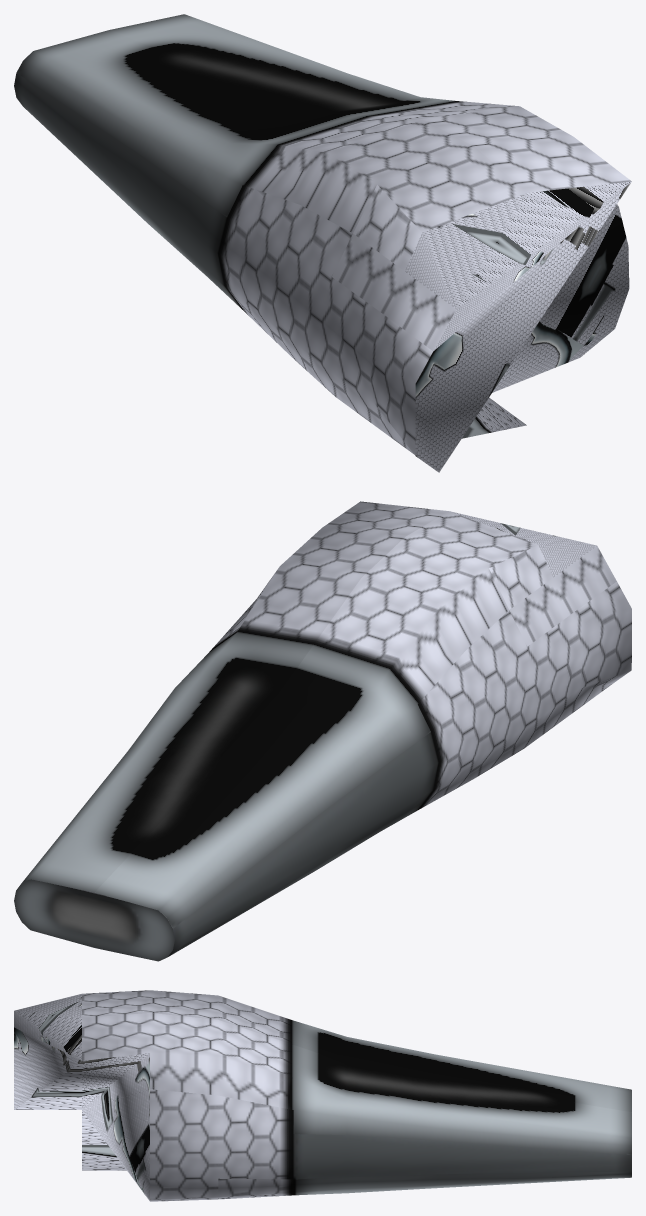
Rendered from StarfighterDestructionPart2.fbx.
The picture shows the model from 3 angles, top to bottom: view 1: azimuth 30°, elevation 25°; view 2: azimuth 150°, elevation 25°; view 3: azimuth 270°, elevation 25°; orthographic projection. The views are drawn at different scales.
Visible parts, largest first — view 1: polySurface1; view 2: polySurface1; view 3: polySurface1.
Boxes of the visible parts, x1,y1,x2,y2 form: polySurface1: (14, 14, 631, 472); polySurface1: (14, 501, 631, 961); polySurface1: (14, 990, 631, 1201).
Size of the model in its own units: 2.95 by 2.13 by 7.57.
Materials: 1 (1 with a texture image).
